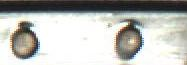joints: (3, 14, 41, 60), (112, 17, 146, 62)
press: (28, 0, 187, 63)
